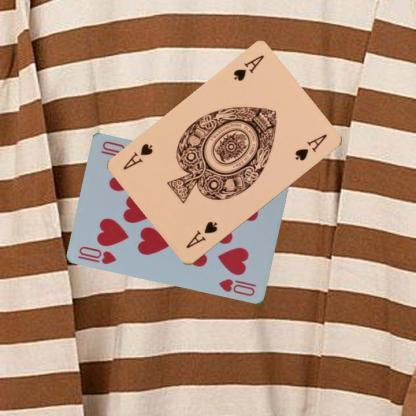10h: (76, 243, 118, 265)
As: (183, 219, 219, 250), (230, 52, 266, 83)
